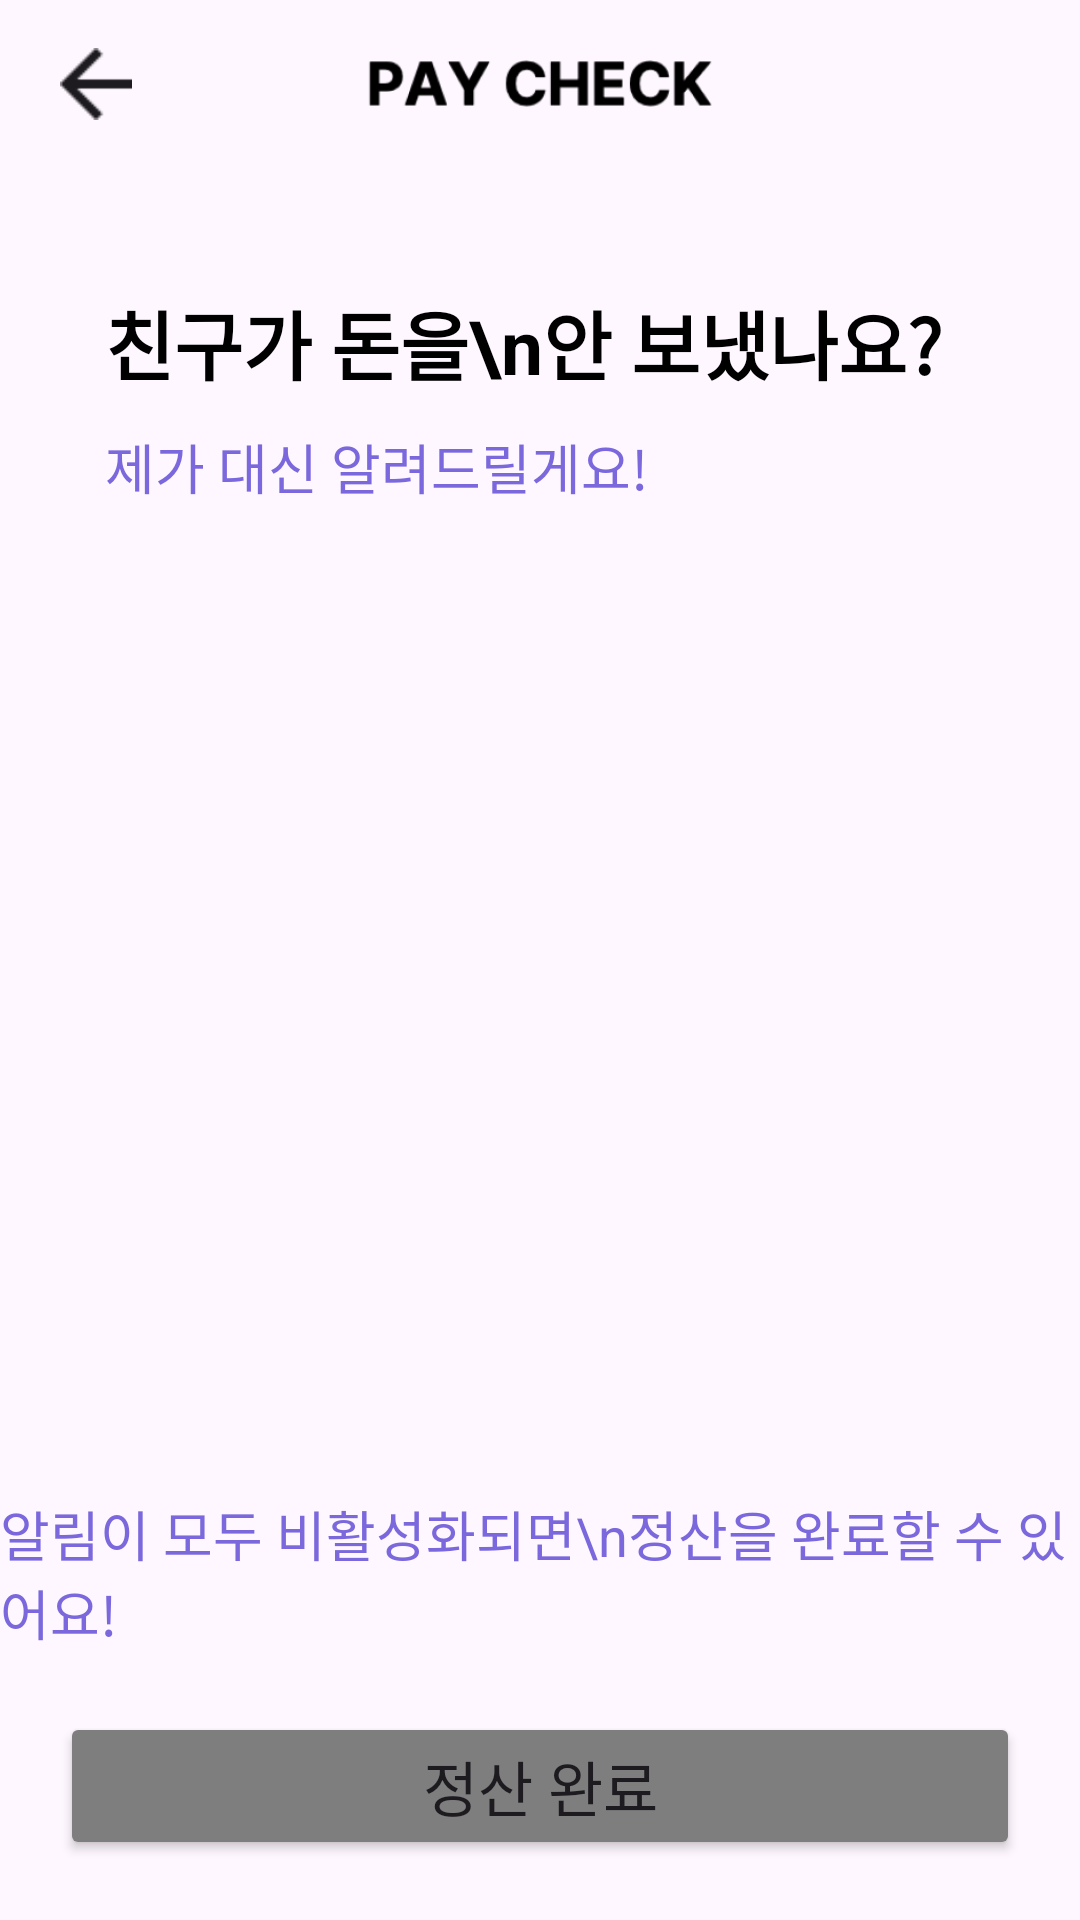

Icons on this 1080px x 1920px Android screen, each with the point to tap as (x,y):
back: (96,84)
